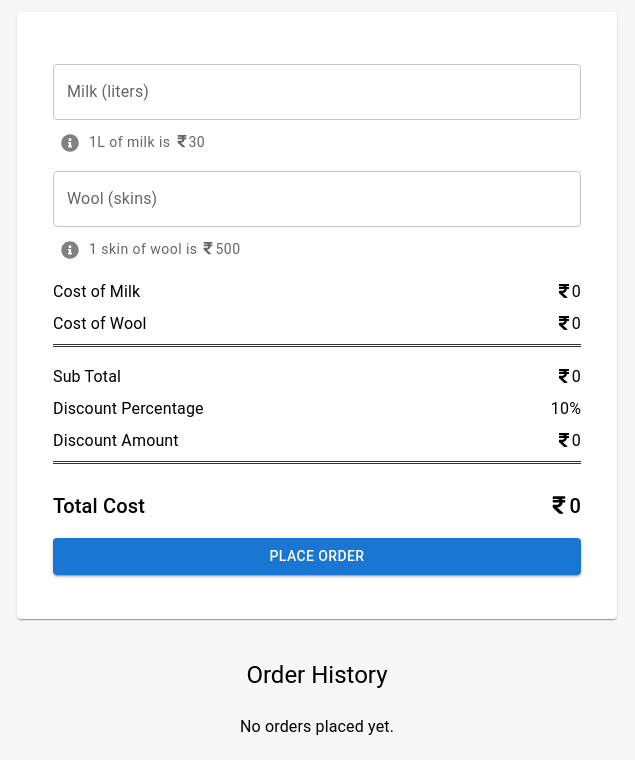
OrderForm › renders correctly and handles form submission
Type "100" into the number field labelled "Milk (liters)". click: (317, 92)
box: [53,64,581,120]
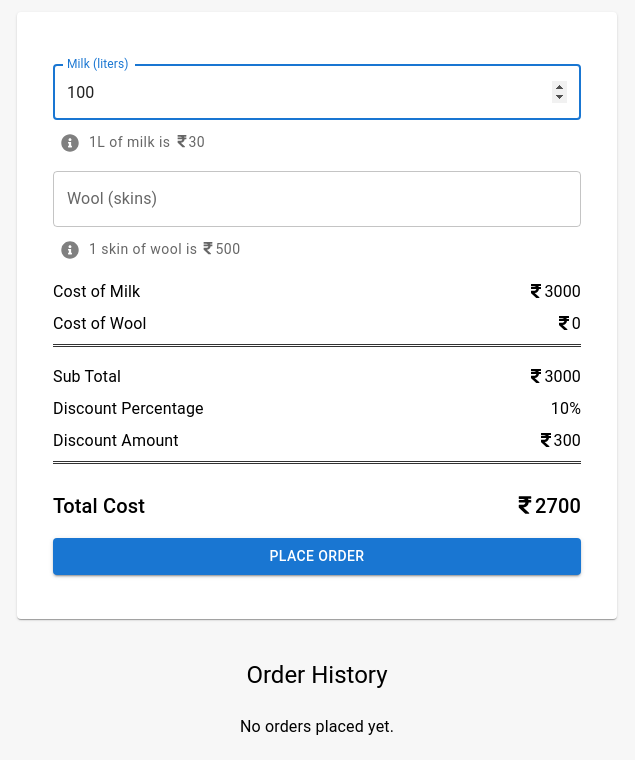
Type "50" into the number field labelled "Wool (skins)". click: (317, 199)
box: [53,171,581,227]
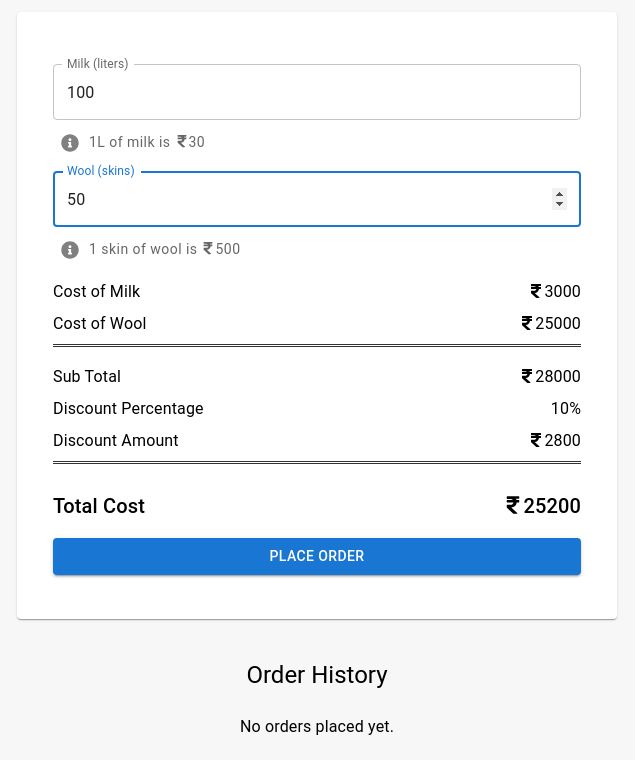
Click the button "Place Order". click: (317, 556)
box: [53,538,581,574]
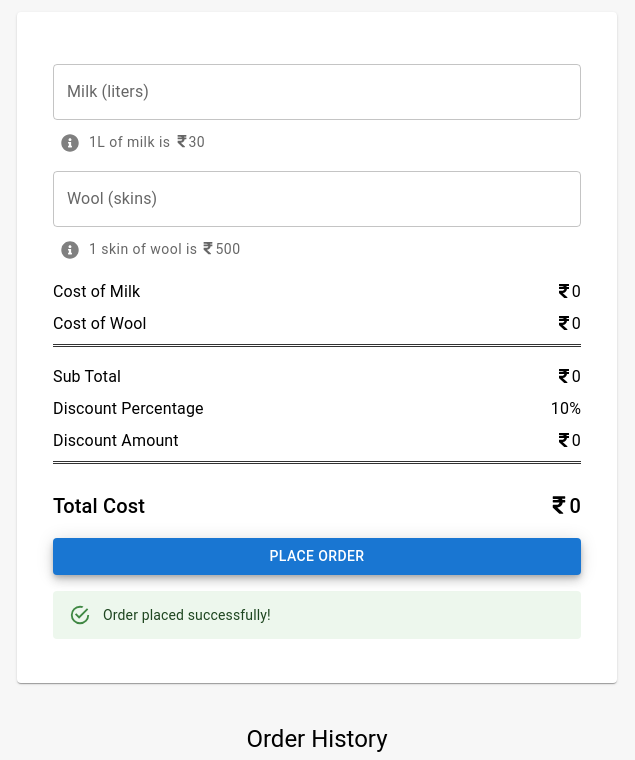
Check: the text "Order placed successfully!" is shown, box [103,606,271,622]
